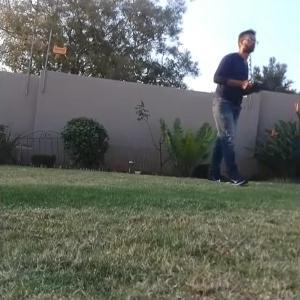follow: (197, 13, 268, 189)
